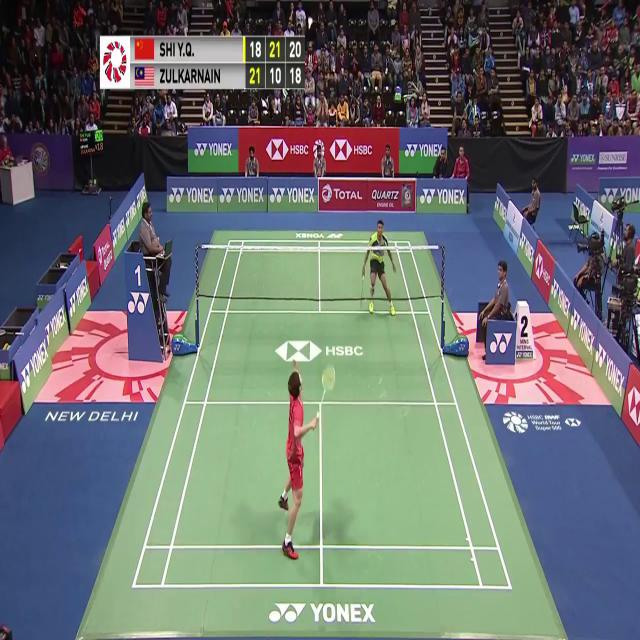Shuttlecock: (306, 21, 313, 32)
